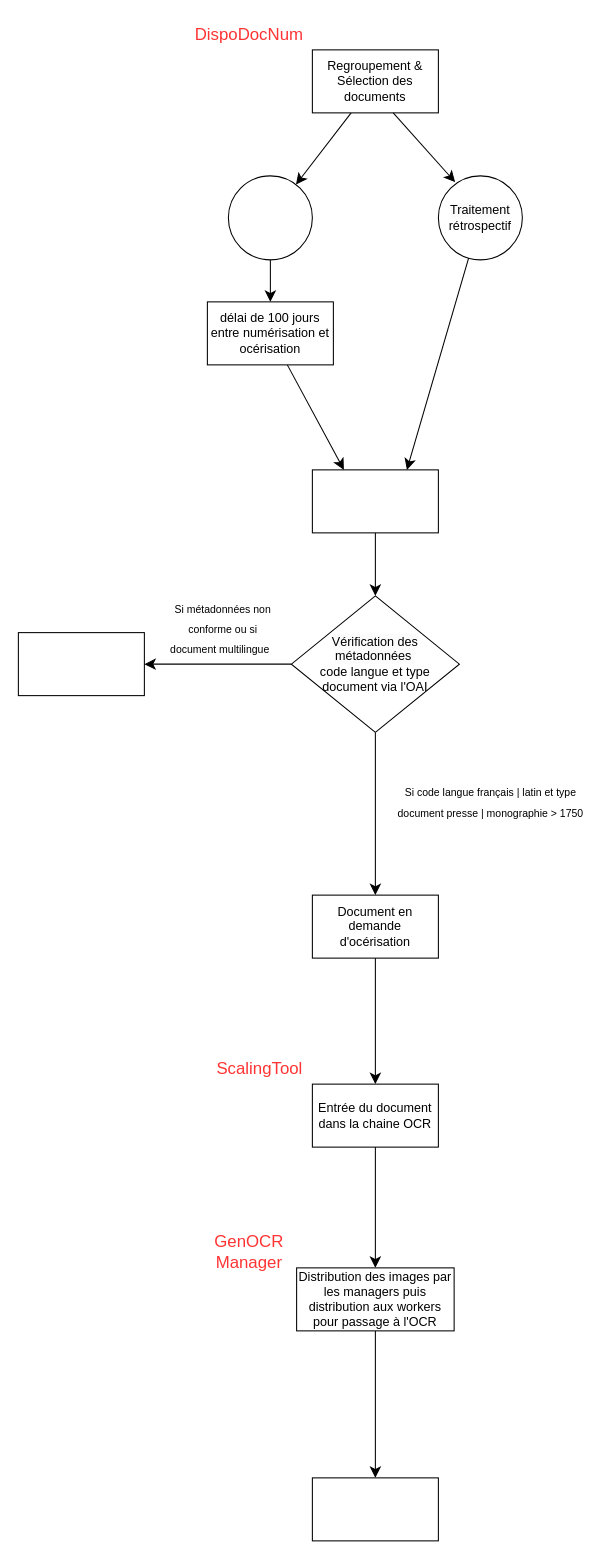
The diagram is 604 pixels wide and 1559 high, and some of its shapes have lost their labels. The centre of each missing label's shape, as x and y in pixels:
"Création d'un nouveau fichier puis envoie à la chaine d'entrée" belongs at (374,1509).
"Document rejeté et non océrisé" belongs at (80,664).
"Enregistrement des documents dans la table dédiée aux document océrisables" belongs at (374,501).
"Traitement courant" belongs at (269,217).
